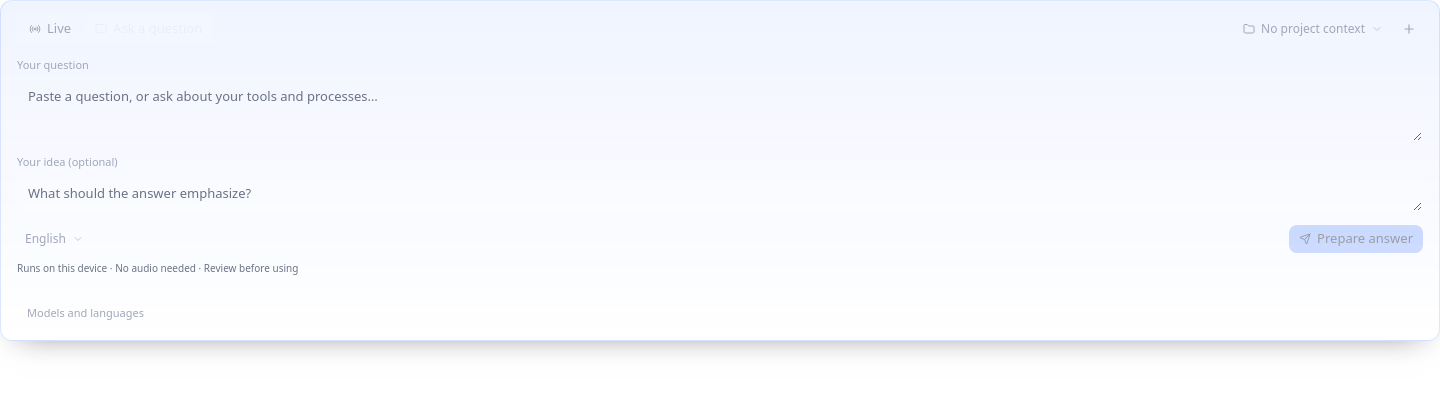
it: keeps a failed request editable and displays its error
This screenshot has width=1440, height=398.
Type "How do we deploy?" into the text box labelled "Your question" at (720,110), box [17, 78, 1423, 142]
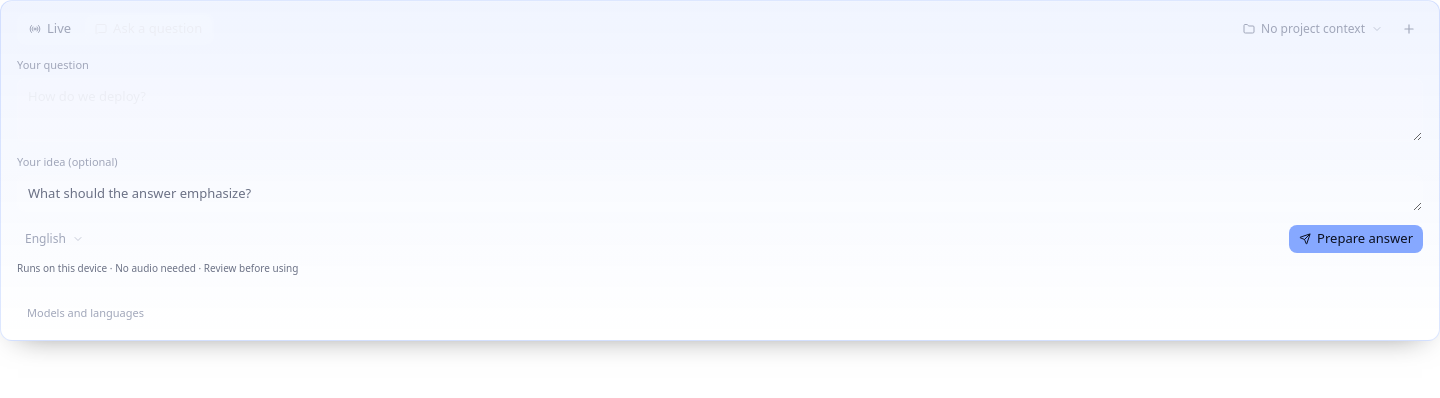
Click the button "Prepare answer" at (1356,238), box [1289, 224, 1423, 252]
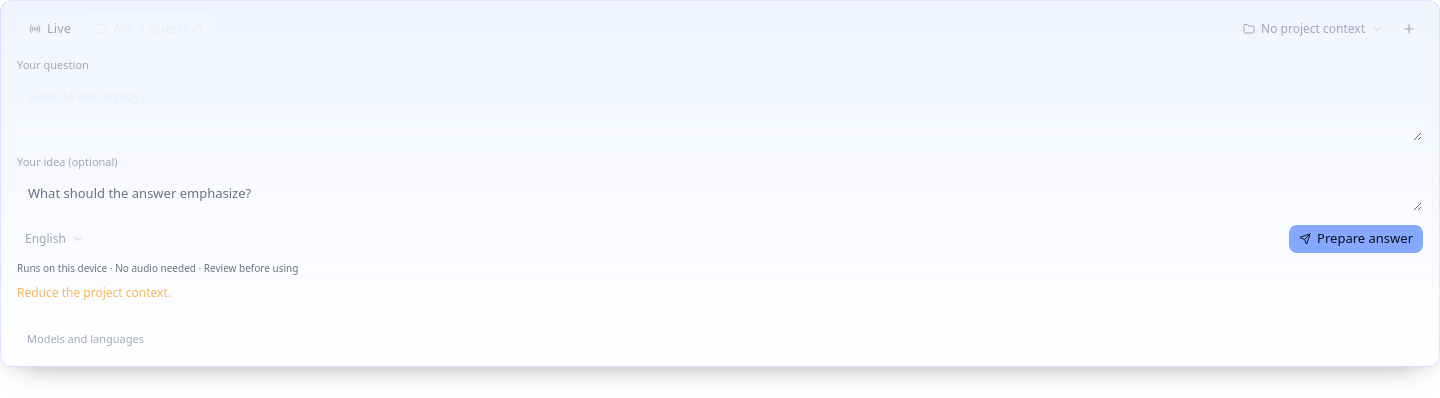
Result: the text "Reduce the project context." is shown at [17, 284, 171, 300]
